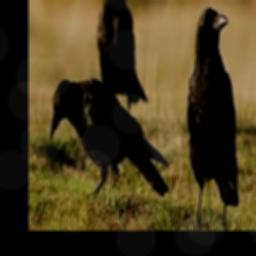Crow: (49, 77, 169, 197), (187, 6, 238, 228), (97, 0, 148, 115)
